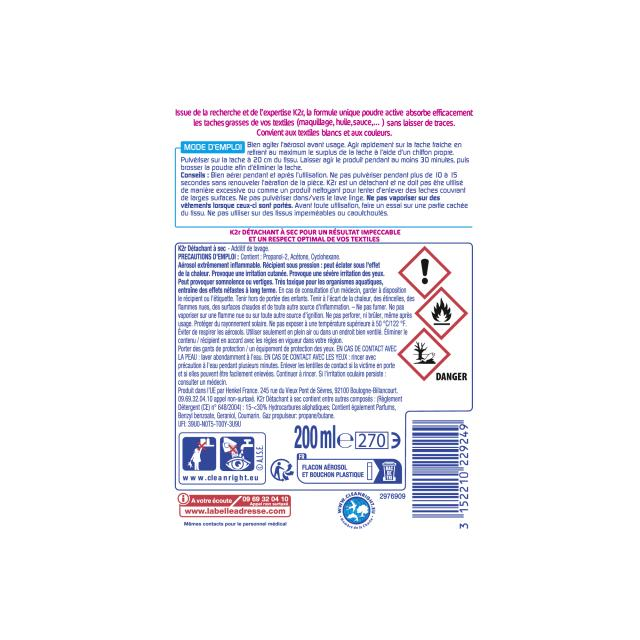GHS_Symbol_ENVIRONMENT: (399, 328, 450, 382)
GHS_Symbol_EXCLAMATION_MARK: (400, 245, 450, 298)
GHS_Symbol_FLAME: (417, 287, 469, 339)
